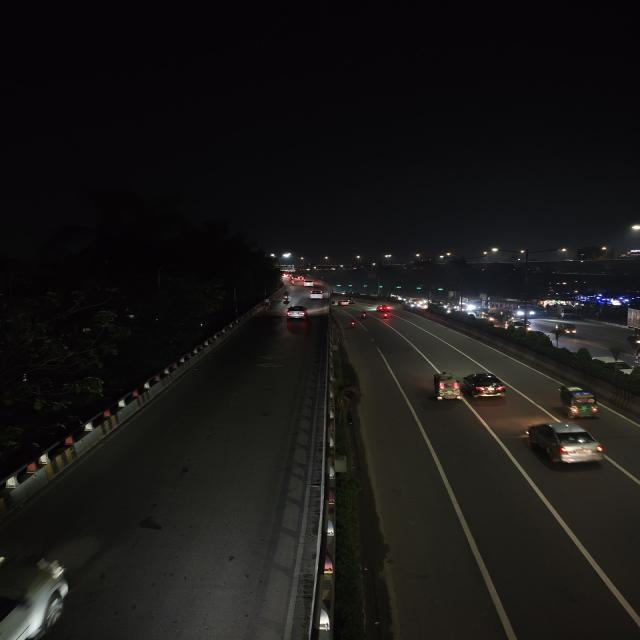bus: (497, 298, 538, 318)
car: (519, 418, 611, 472), (463, 370, 508, 401), (594, 356, 638, 376), (284, 305, 308, 321), (308, 289, 326, 300), (337, 298, 353, 308), (376, 304, 392, 312), (298, 278, 314, 286)
cng: (556, 383, 603, 420), (429, 369, 464, 404), (556, 322, 581, 337)
motorcycle: (279, 293, 292, 305), (346, 317, 358, 329), (359, 310, 369, 320)
truck: (550, 305, 579, 319)
